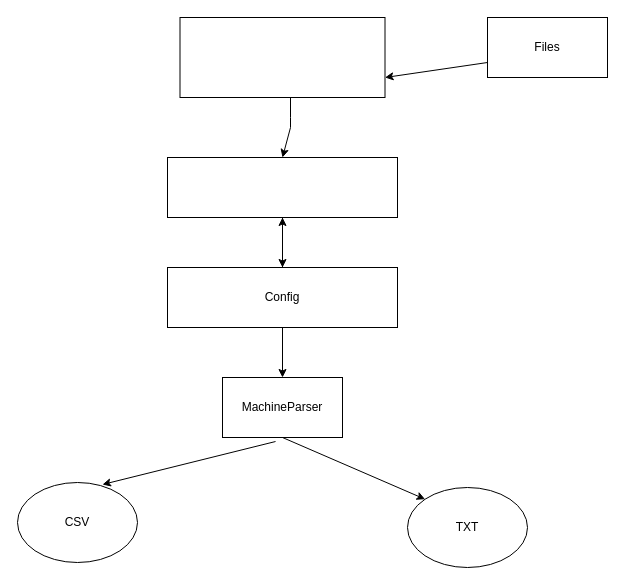
Image size: 625x585. Some labels were removed from this diagram. Here are the shapes that lost their labels. From the top down, the centre of each, then its label:
[282,57]: Main Class Entry Point
[282,187]: Config Loader
